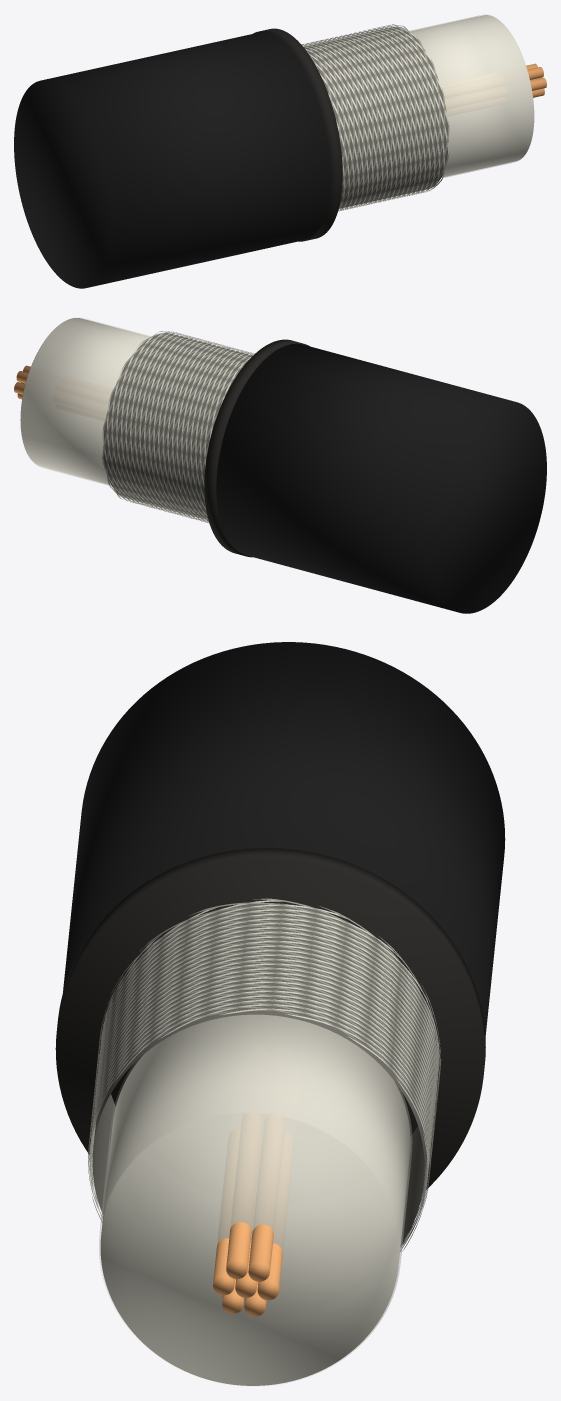
The picture shows the model from 3 angles, top to bottom: view 1: azimuth 30°, elevation 25°; view 2: azimuth 150°, elevation 25°; view 3: azimuth 270°, elevation 25°; orthographic projection. The views are drawn at different scales.
Visible parts, largest first — view 1: matte black pvc jacket body, smooth dielectric skin, gas injected foam dielectric, braid dark diamond recess, jacket cut lip, braid left hand woven carrier 16, braid left hand woven carrier 15, braid left hand woven carrier 01, braid left hand woven carrier 14, braid left hand woven carrier 02, braid left hand woven carrier 03, braid left hand woven carrier 13 (+19 smaller); view 2: matte black pvc jacket body, smooth dielectric skin, gas injected foam dielectric, braid dark diamond recess, jacket cut lip, braid left hand woven carrier 10, braid left hand woven carrier 11, braid left hand woven carrier 09, braid left hand woven carrier 12, braid left hand woven carrier 08, braid left hand woven carrier 13, braid left hand woven carrier 14 (+18 smaller); view 3: gas injected foam dielectric, matte black pvc jacket body, jacket cut lip, smooth dielectric skin, braid dark diamond recess, braid left hand woven carrier 11, braid left hand woven carrier 12, braid left hand woven carrier 13, braid left hand woven carrier 10, braid right hand woven carrier 14, braid left hand woven carrier 14, braid left hand woven carrier 09 (+24 smaller).
Part boxes in pixels (<box>): matte black pvc jacket body: <box>14,32,330,288</box>; smooth dielectric skin: <box>409,14,533,178</box>; gas injected foam dielectric: <box>410,15,534,177</box>; braid dark diamond recess: <box>303,26,448,208</box>; jacket cut lip: <box>253,28,342,241</box>; braid left hand woven carrier 16: <box>315,25,430,199</box>; braid left hand woven carrier 15: <box>310,24,426,200</box>; braid left hand woven carrier 01: <box>321,36,435,204</box>; braid left hand woven carrier 14: <box>305,25,421,201</box>; braid left hand woven carrier 02: <box>325,38,440,208</box>; braid left hand woven carrier 03: <box>330,37,445,210</box>; braid left hand woven carrier 13: <box>302,26,416,202</box>; matte black pvc jacket body: <box>216,343,546,613</box>; smooth dielectric skin: <box>21,317,150,486</box>; gas injected foam dielectric: <box>20,318,149,484</box>; braid dark diamond recess: <box>103,333,252,520</box>; jacket cut lip: <box>204,339,309,557</box>; braid left hand woven carrier 10: <box>111,339,236,521</box>; braid left hand woven carrier 11: <box>106,338,243,519</box>; braid left hand woven carrier 09: <box>116,341,228,522</box>; braid left hand woven carrier 12: <box>102,337,248,518</box>; braid left hand woven carrier 08: <box>120,342,223,523</box>; braid left hand woven carrier 13: <box>102,336,251,517</box>; braid left hand woven carrier 14: <box>108,334,253,516</box>; gas injected foam dielectric: <box>100,1014,410,1385</box>; matte black pvc jacket body: <box>63,642,505,1035</box>; jacket cut lip: <box>55,848,485,1189</box>; smooth dielectric skin: <box>99,1015,412,1386</box>; braid dark diamond recess: <box>92,903,436,1245</box>; braid left hand woven carrier 11: <box>92,911,437,1251</box>; braid left hand woven carrier 12: <box>91,916,437,1201</box>; braid left hand woven carrier 13: <box>91,920,436,1144</box>; braid left hand woven carrier 10: <box>92,907,438,1250</box>; braid right hand woven carrier 14: <box>89,918,439,1196</box>; braid left hand woven carrier 14: <box>90,925,436,1139</box>; braid left hand woven carrier 09: <box>93,902,438,1245</box>.
Bounding box in the file's own units: 6.56 × 2.6 × 2.72.
